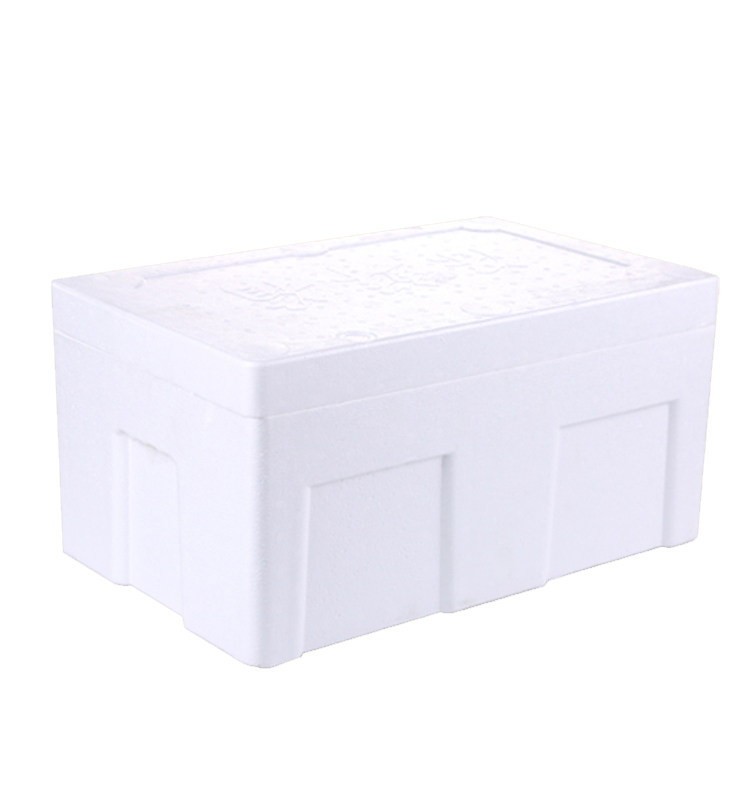Boxes: (52, 224, 716, 666)
